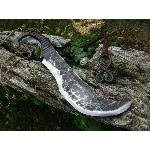Golok: (13, 29, 136, 121)
